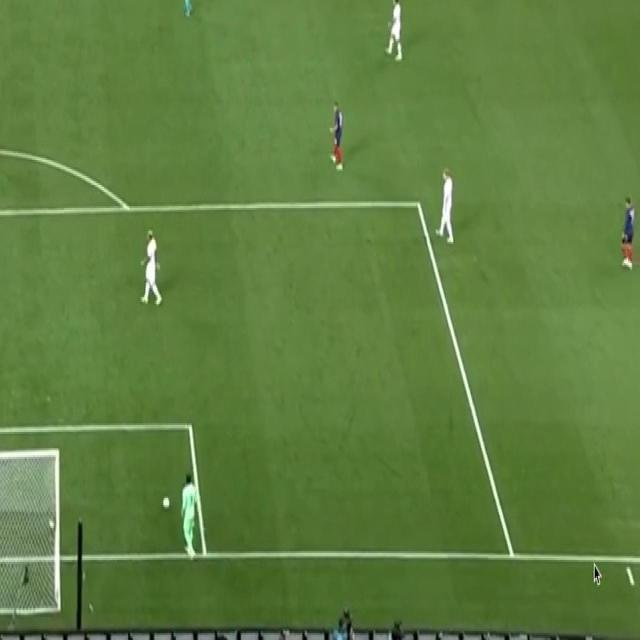ball: (162, 493, 170, 509)
player-white: (139, 222, 163, 310), (179, 473, 201, 565), (434, 164, 455, 248), (327, 102, 345, 174), (620, 194, 636, 274), (383, 0, 403, 64), (179, 0, 194, 20)
